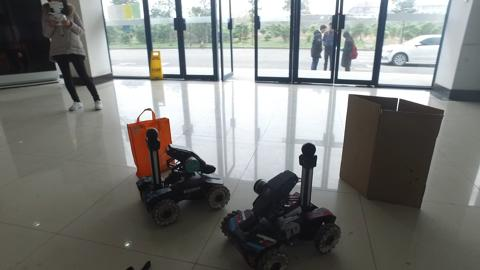box: (346, 91, 436, 216)
chariot: (223, 141, 342, 268), (134, 127, 232, 224)
